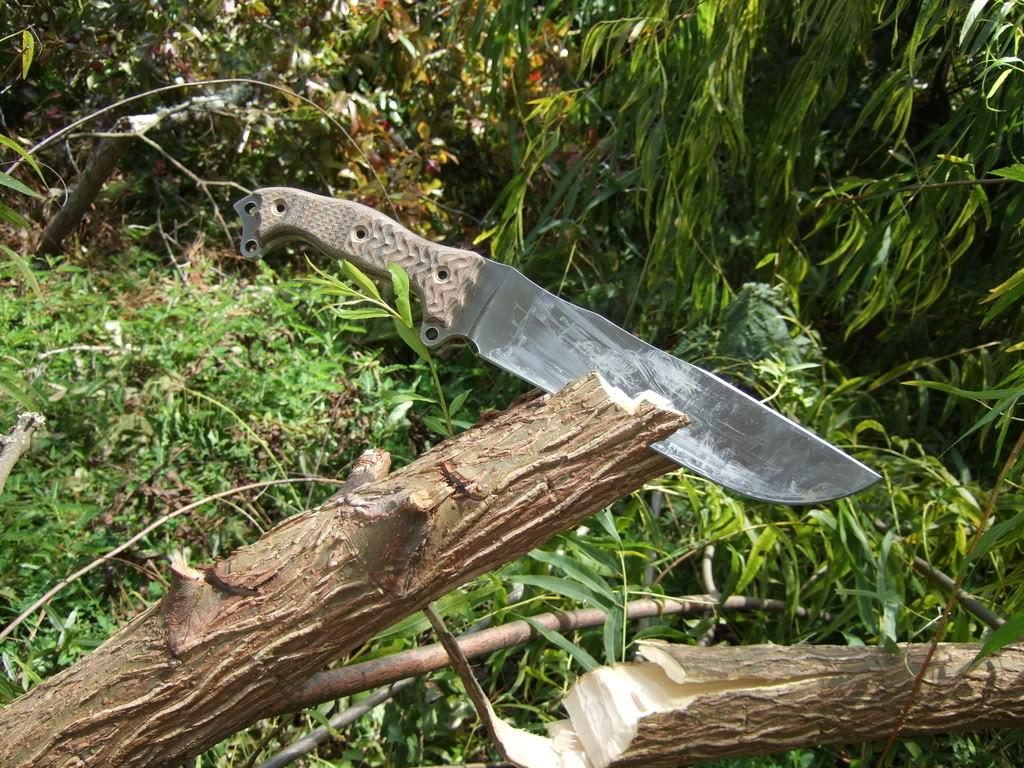Knife: (240, 182, 884, 514)
